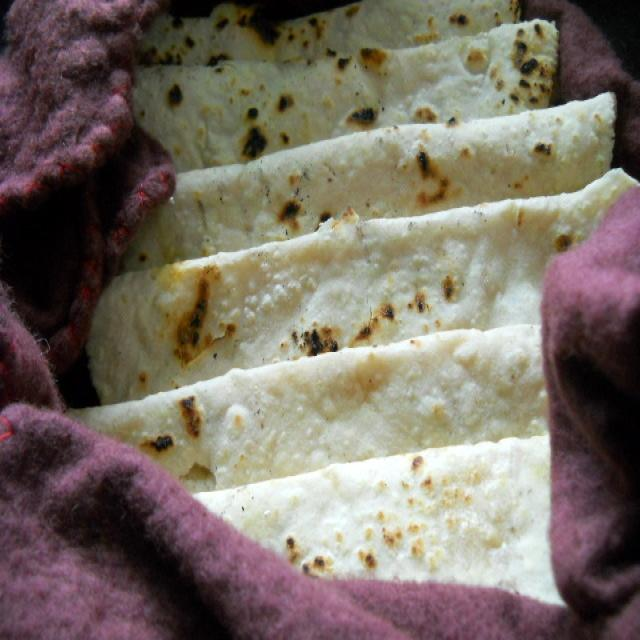RICE BHAKRI: (71, 0, 637, 603)
